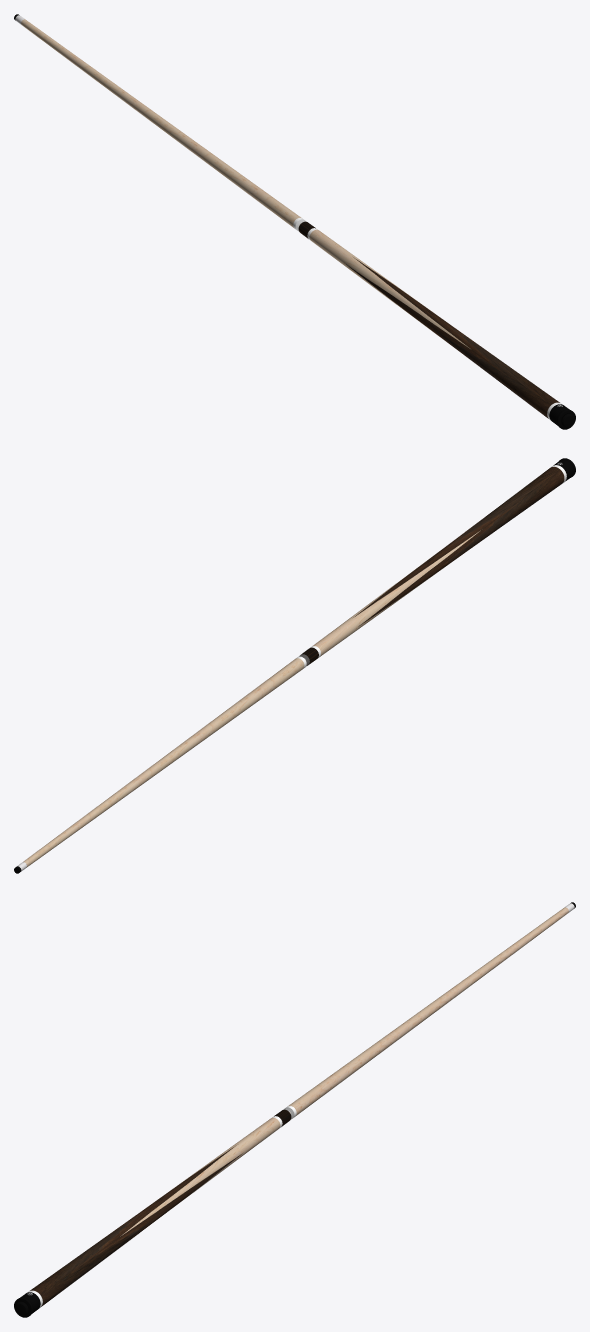
File: FullSpliceCue_v1.glb
3 renders of one model, top to bottom at view 1: azimuth 30°, elevation 25°; view 2: azimuth 150°, elevation 25°; view 3: azimuth 330°, elevation 25°, orthographic.
Visible parts, largest first — view 1: Shaft, Handle, Forearm; view 2: Shaft, Handle, Forearm; view 3: Shaft, Handle, Forearm.
Boxes of the visible parts, <box> form: Shaft: <box>21,19,301,228</box>; Handle: <box>346,257,559,418</box>; Forearm: <box>309,229,470,348</box>; Shaft: <box>23,658,304,867</box>; Handle: <box>353,467,564,626</box>; Forearm: <box>313,530,480,656</box>; Shaft: <box>288,907,568,1116</box>; Handle: <box>30,1145,242,1306</box>; Forearm: <box>120,1117,280,1236</box>.
Bounding box in the file's own units: 28 × 28 × 1481.
Materials: 8 (4 with a texture image).
